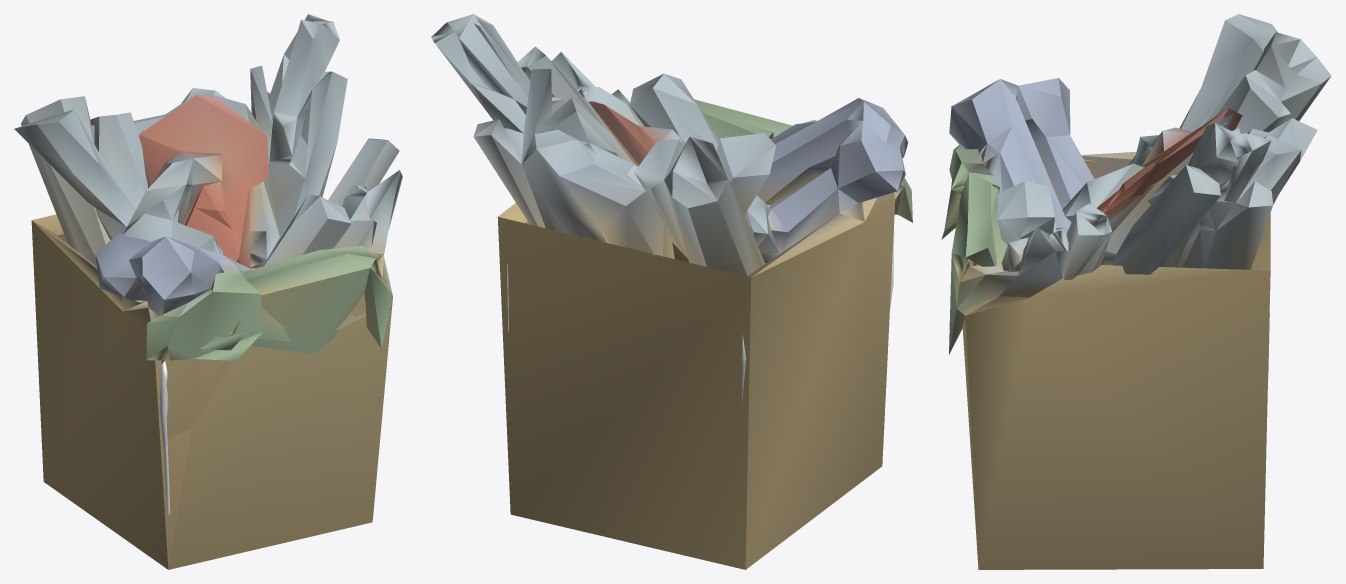
The model's file is BoxSpecial01.fbx.
3 views of the same model, side by side, from view 1: azimuth 30°, elevation 25°; view 2: azimuth 150°, elevation 25°; view 3: azimuth 270°, elevation 25° (orthographic). The views are drawn at different scales.
Visible parts, largest first — view 1: BoxSpecial01; view 2: BoxSpecial01; view 3: BoxSpecial01.
Boxes of the visible parts, x1=… form: BoxSpecial01: x1=14, y1=14, x2=402, y2=569; BoxSpecial01: x1=431, y1=14, x2=912, y2=569; BoxSpecial01: x1=941, y1=14, x2=1331, y2=569.
Bounding box in the file's own units: 90.51 × 112 × 82.63.
